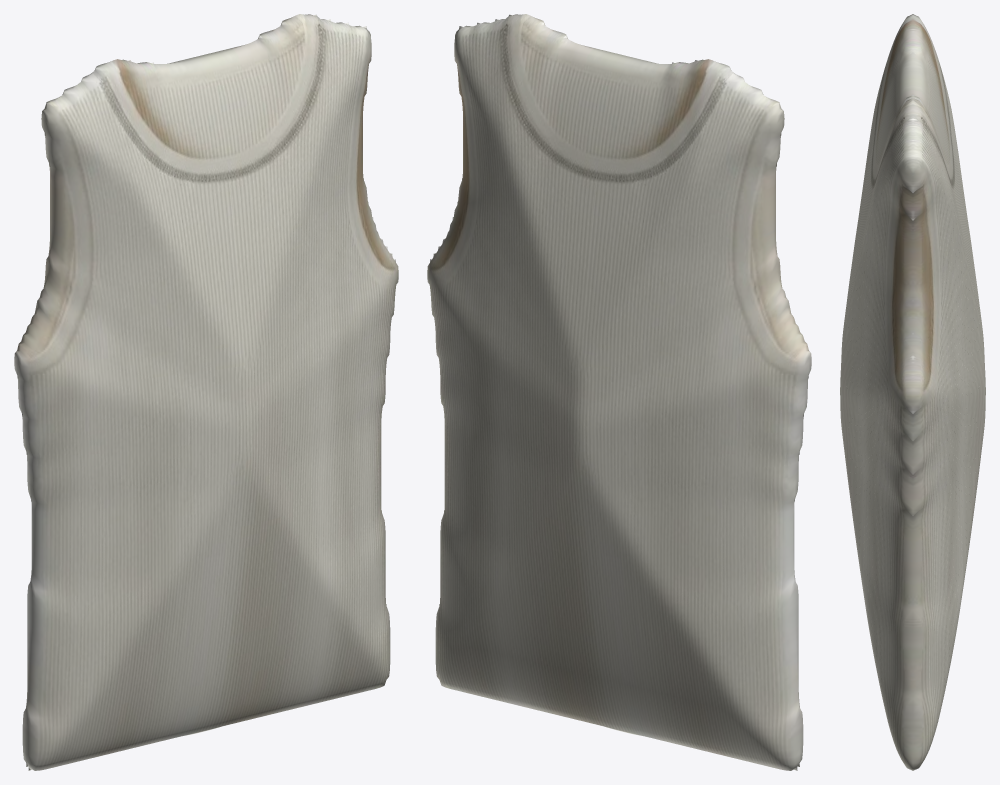
The model's file is prod-ae-acetate-beaded-tank.glb.
The picture shows the model from 3 angles, left to right: view 1: azimuth 30°, elevation 25°; view 2: azimuth 150°, elevation 25°; view 3: azimuth 270°, elevation 25°; orthographic projection. The views are drawn at different scales.
Visible parts, largest first — view 1: prod-ae-acetate-beaded-tank_standalone; view 2: prod-ae-acetate-beaded-tank_standalone; view 3: prod-ae-acetate-beaded-tank_standalone.
Part boxes in pixels (left/top/right/bottom): prod-ae-acetate-beaded-tank_standalone: left=14, top=14, right=398, bottom=770; prod-ae-acetate-beaded-tank_standalone: left=427, top=14, right=811, bottom=770; prod-ae-acetate-beaded-tank_standalone: left=840, top=14, right=985, bottom=770.
Bounding box in the file's own units: 0.2614 × 0.4574 × 0.0951.
1 material, 1 textured.
